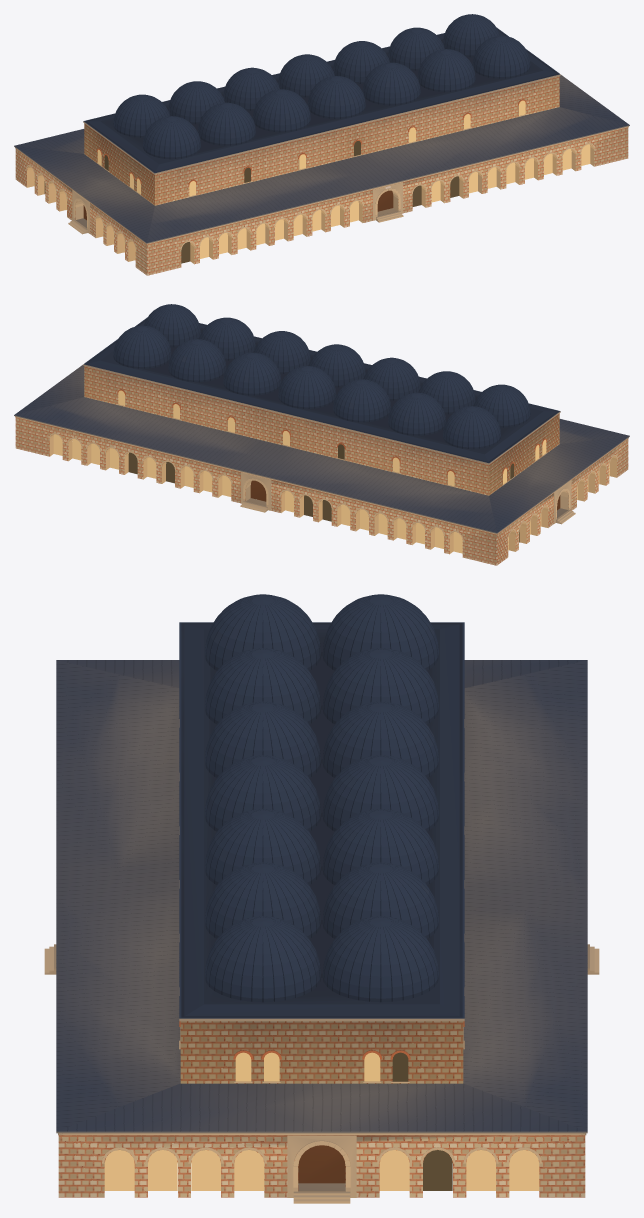
The model's file is bedesten_v11_night.glb.
3 renders of one model, top to bottom at view 1: azimuth 30°, elevation 25°; view 2: azimuth 150°, elevation 25°; view 3: azimuth 270°, elevation 25°, orthographic. The views are drawn at different scales.
Visible parts, largest first — view 1: Dukkanlar, Kubbeler, Govde, Govde_Ortu, Kapilar; view 2: Dukkanlar, Kubbeler, Govde, Govde_Ortu, Kapilar; view 3: Dukkanlar, Kubbeler, Govde_Ortu, Govde, Kapilar.
Part boxes in pixels (box(x1,y1,x2,y2)): Dukkanlar: box(14, 27, 629, 275); Kubbeler: box(113, 14, 530, 159); Govde: box(84, 29, 559, 205); Govde_Ortu: box(87, 31, 556, 171); Kapilar: box(68, 182, 403, 234); Dukkanlar: box(14, 317, 629, 565); Kubbeler: box(113, 304, 530, 449); Govde: box(84, 319, 559, 495); Govde_Ortu: box(87, 321, 556, 461); Kapilar: box(240, 472, 575, 524); Dukkanlar: box(56, 622, 587, 1197); Kubbeler: box(205, 594, 438, 1002); Govde_Ortu: box(184, 624, 459, 1016); Govde: box(179, 623, 464, 1083); Kapilar: box(44, 944, 599, 1203).
Size of the model in its own units: 72.5 by 14.2 by 35.3.
11 materials, 3 textured.
